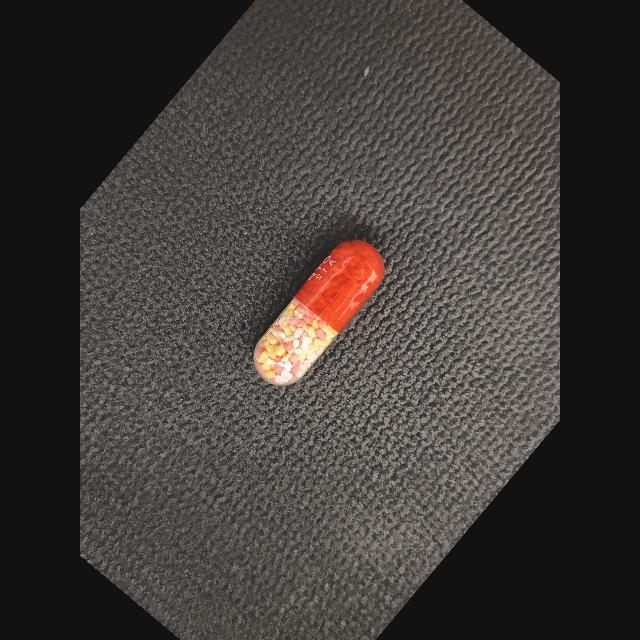Intact Capsule: (253, 240, 385, 386)
